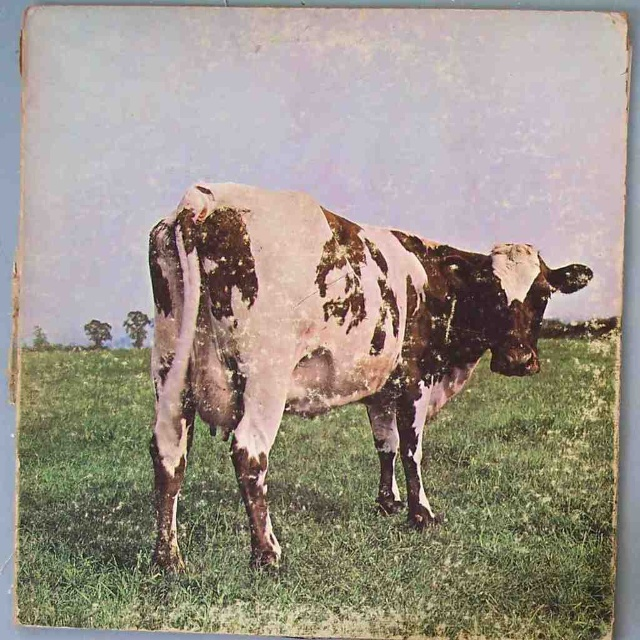Cattle: (148, 180, 594, 577)
